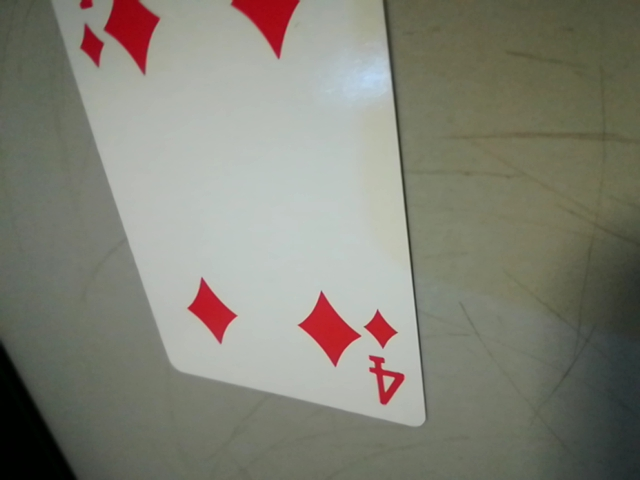fk 4: (354, 297, 415, 418)
